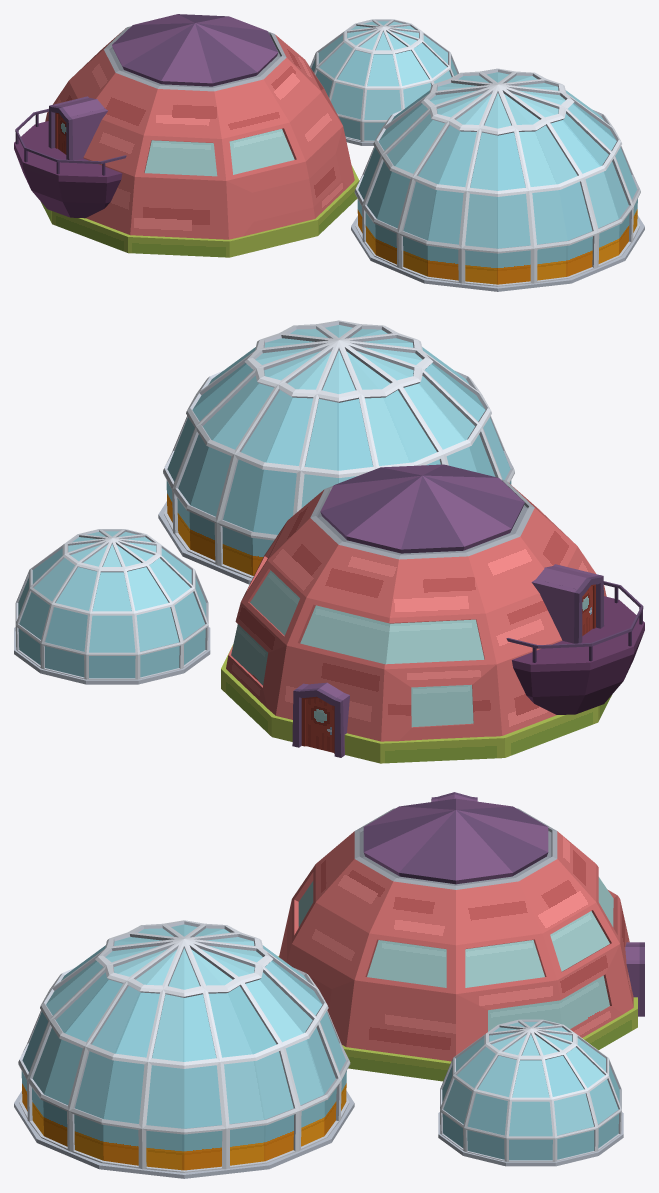
File: W.house_purpple.gltf
3 renders of one model, top to bottom at view 1: azimuth 30°, elevation 25°; view 2: azimuth 150°, elevation 25°; view 3: azimuth 270°, elevation 25°, orthographic. The views are drawn at different scales.
Parts seen in each view (by area): view 1: s1_1, sphere_1, sphere_2; view 2: s1_1, sphere_1, sphere_2; view 3: s1_1, sphere_1, sphere_2.
Boxes of the visible parts, left/top/right/bottom form: s1_1: left=14, top=14, right=359, bottom=257; sphere_1: left=351, top=68, right=644, bottom=291; sphere_2: left=310, top=19, right=459, bottom=145; s1_1: left=221, top=464, right=644, bottom=763; sphere_1: left=158, top=320, right=514, bottom=584; sphere_2: left=14, top=529, right=210, bottom=684; s1_1: left=278, top=792, right=644, bottom=1081; sphere_1: left=14, top=920, right=354, bottom=1178; sphere_2: left=438, top=1019, right=623, bottom=1166.
Size of the model in its own units: 7.82 by 2.57 by 7.61.
Materials: 3 (3 with a texture image).
